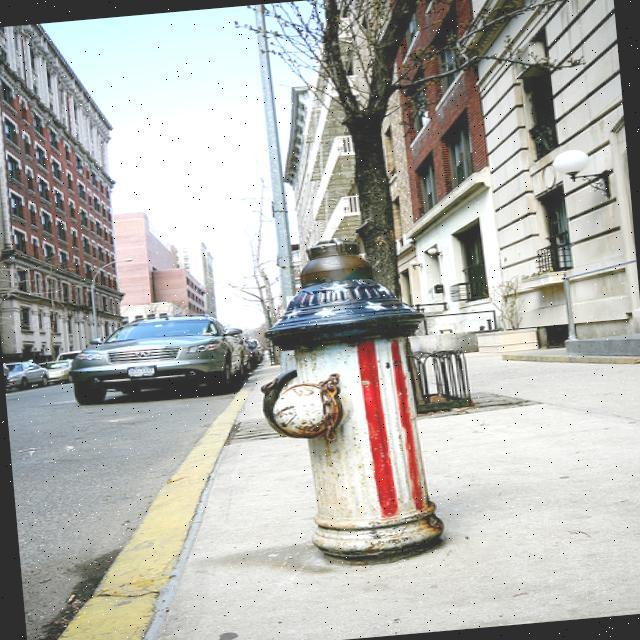fire_hydrant: (247, 235, 451, 570)
